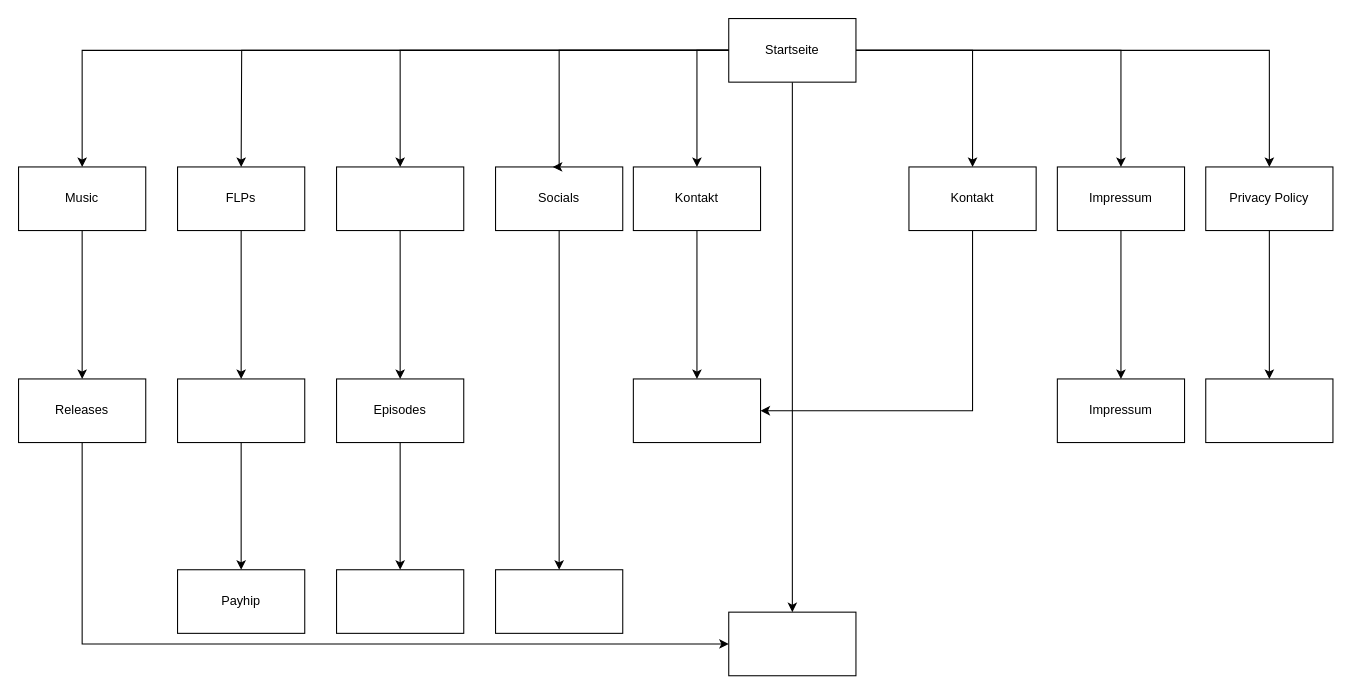
Some shapes in this 1351 by 694 pixel diagram are drawn without their labels. The box of each missing label's shape, as (x1, y1, x2, y2) in pixels:
Latest Release: (728, 611, 856, 676)
Mail: (632, 378, 761, 443)
Overview: (176, 378, 305, 443)
Radioshow: (335, 166, 464, 231)
Social-Media: (494, 569, 623, 633)
YT-Playlist: (335, 569, 464, 633)
